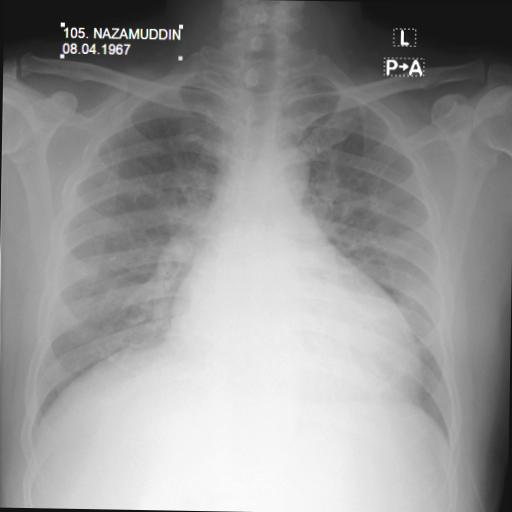kardiomegali: (27, 77, 467, 457)
